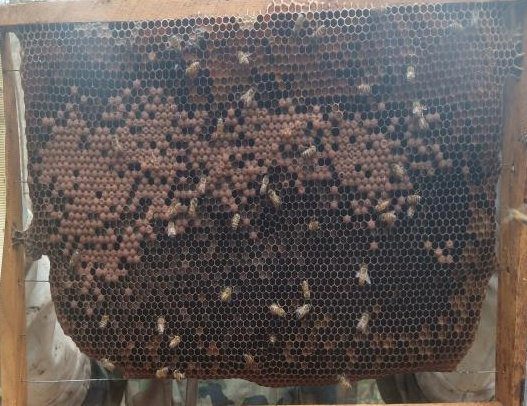cria: (26, 79, 457, 367)
